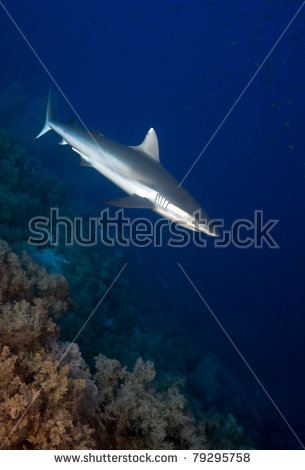Carcharhinus_amblyrhynchos: (29, 79, 234, 245)
